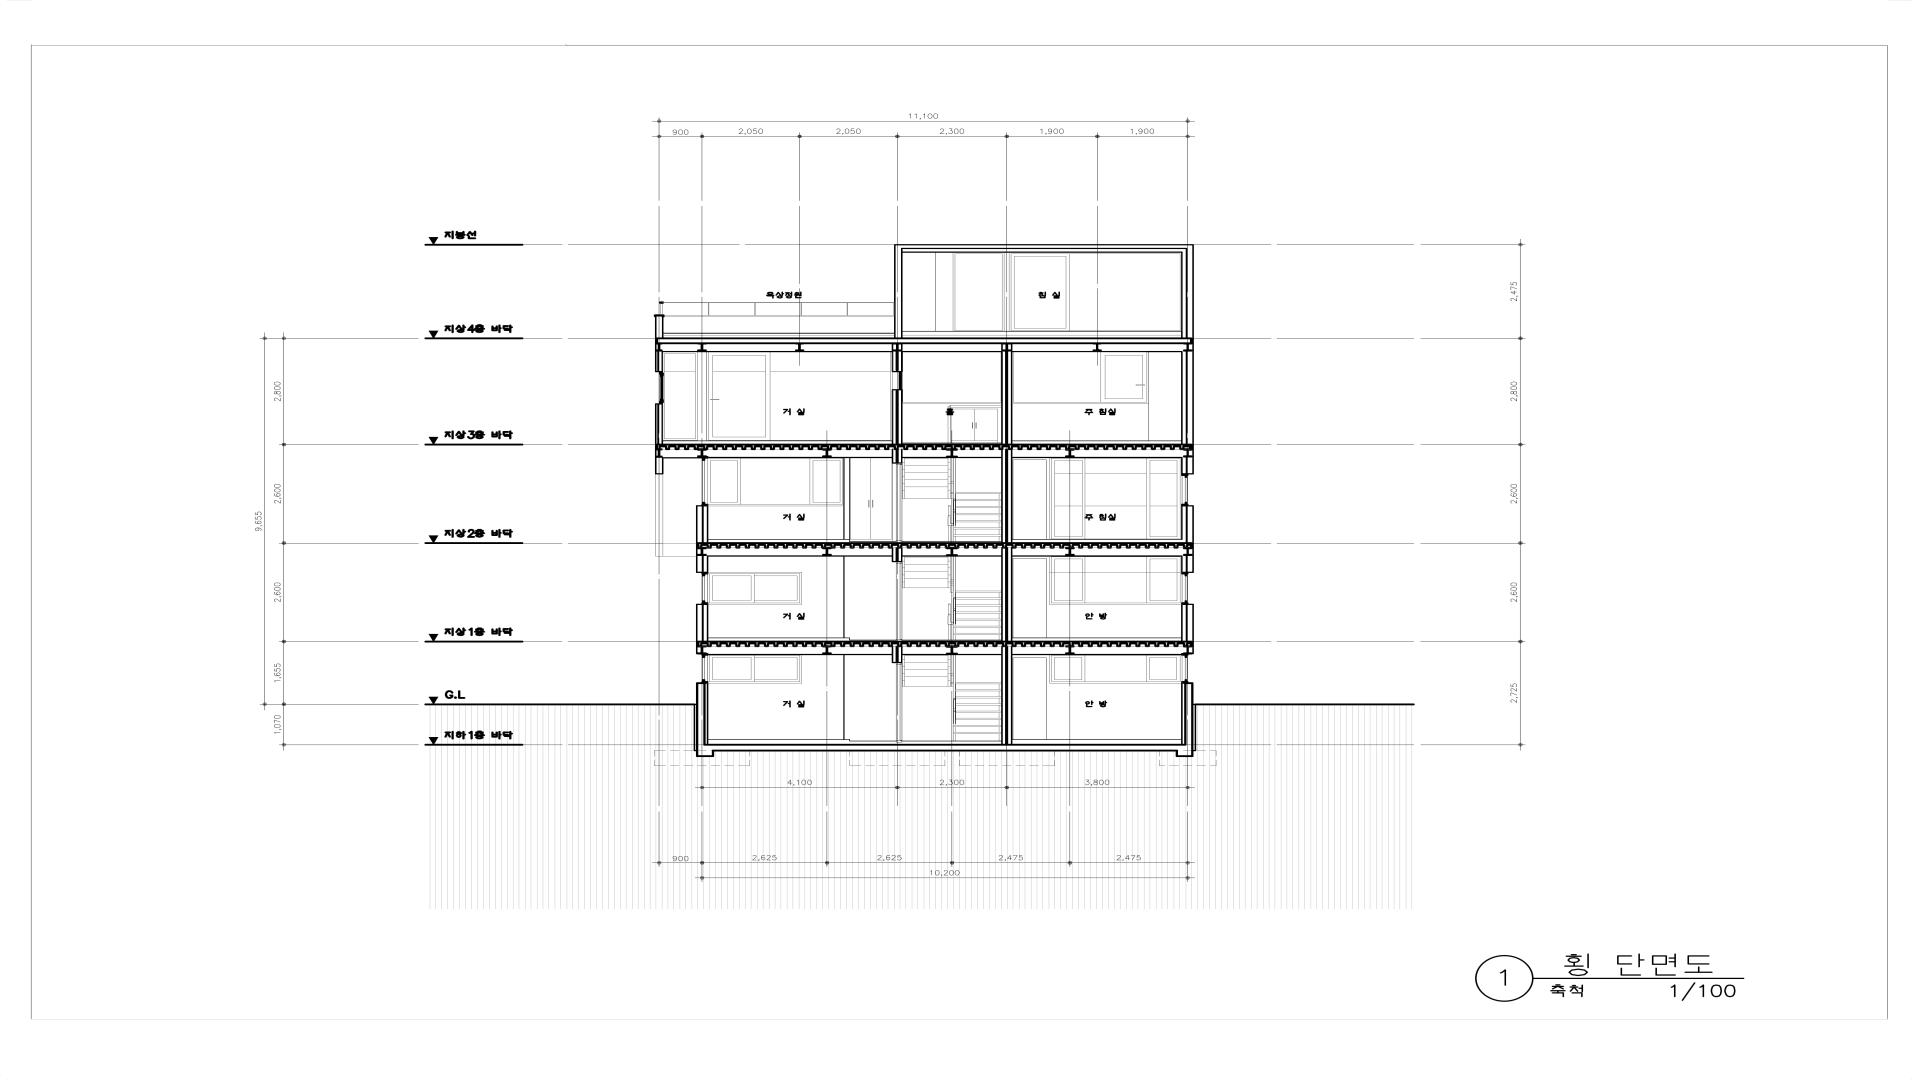door: (708, 352, 770, 440), (895, 562, 902, 641), (895, 663, 902, 742), (895, 464, 902, 542)
wall: (715, 744, 1175, 752), (655, 338, 1193, 344), (696, 542, 1193, 549), (655, 444, 1193, 450), (696, 641, 1193, 646), (903, 244, 1185, 249), (1175, 683, 1193, 757), (696, 682, 713, 757), (1001, 344, 1013, 443), (1001, 646, 1013, 744), (1001, 450, 1013, 542), (1001, 549, 1013, 641), (1185, 344, 1193, 443), (894, 244, 902, 338), (1185, 244, 1193, 338), (891, 389, 903, 443), (891, 344, 903, 372), (655, 404, 663, 444), (1185, 505, 1193, 542), (1185, 604, 1193, 641), (696, 604, 704, 641), (696, 505, 704, 542), (696, 549, 704, 574), (655, 450, 663, 475), (655, 314, 663, 338), (655, 344, 662, 372), (1187, 450, 1193, 475), (1187, 549, 1193, 574), (891, 450, 898, 464), (891, 646, 897, 663), (891, 549, 898, 562), (696, 646, 703, 654), (1187, 646, 1193, 654)
window: (1051, 458, 1180, 539), (1013, 352, 1147, 402), (708, 459, 843, 505), (1051, 556, 1180, 603), (1051, 655, 1180, 682), (709, 574, 800, 603), (709, 655, 800, 682), (702, 459, 708, 505), (702, 572, 708, 604), (891, 372, 903, 389), (1182, 475, 1188, 505), (1182, 574, 1188, 604), (1182, 654, 1188, 682), (702, 654, 708, 682), (658, 372, 663, 404)
